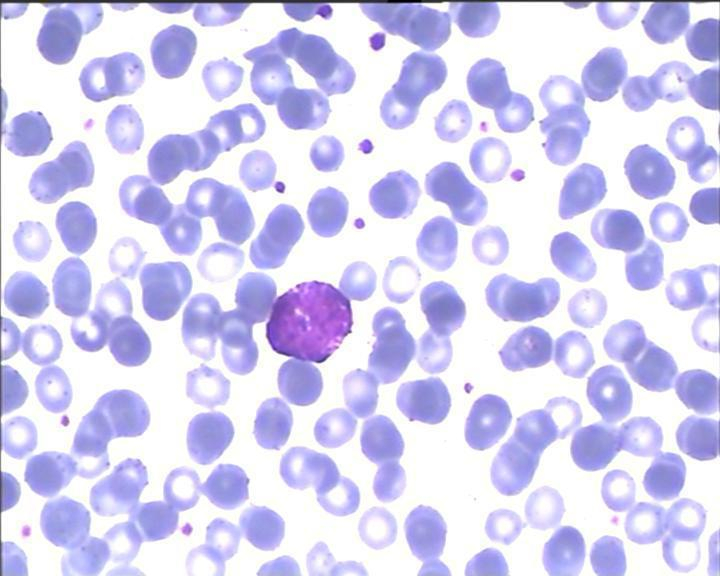baso: (260, 274, 355, 364)
